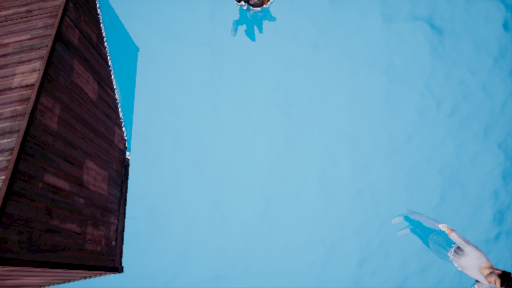person: (401, 211, 509, 288)
